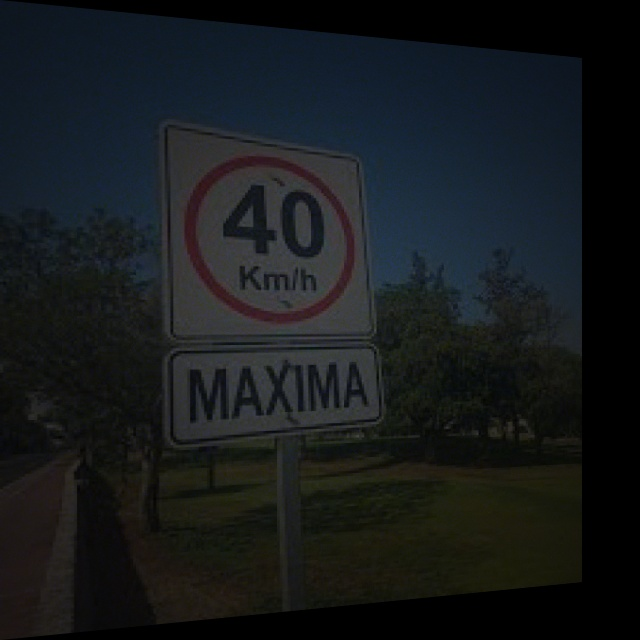Speed_Limit_40: (178, 136, 368, 335)
